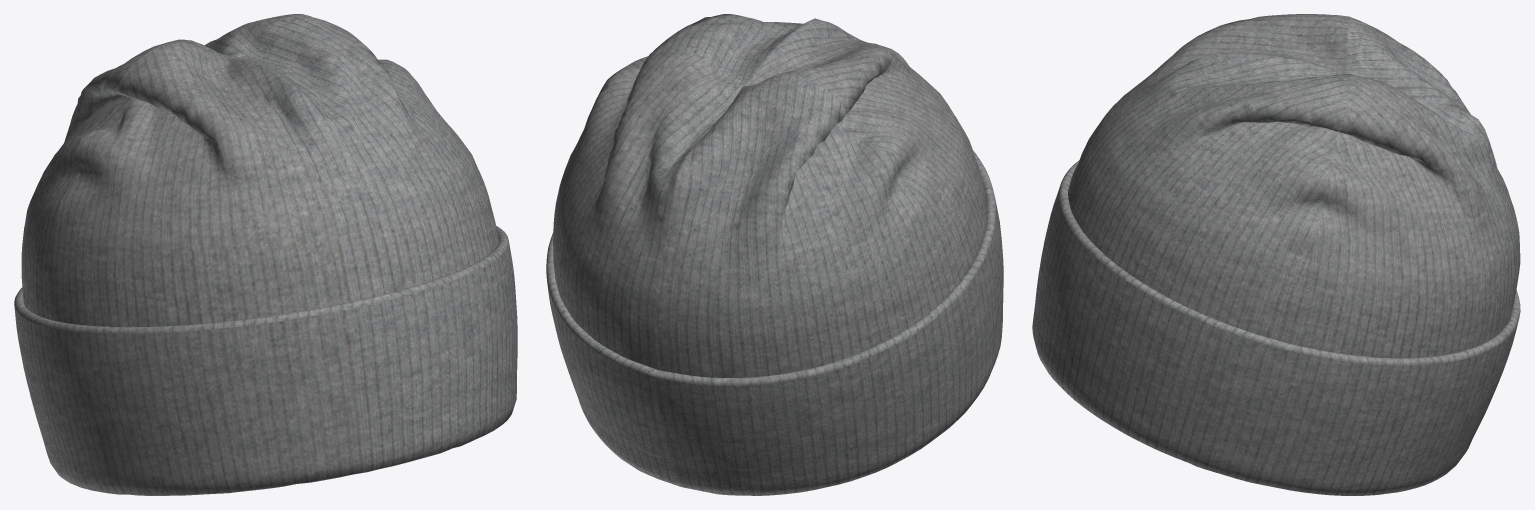
File: beanie.glb
3 renders of one model, left to right at view 1: azimuth 30°, elevation 25°; view 2: azimuth 150°, elevation 25°; view 3: azimuth 270°, elevation 25°, orthographic. The views are drawn at different scales.
Visible parts, largest first — view 1: Pattern2D_269577_Node_0; view 2: Pattern2D_269577_Node_0; view 3: Pattern2D_269577_Node_0.
Part boxes in pixels (x1,y1,x2,y2): Pattern2D_269577_Node_0: (14,14,517,495); Pattern2D_269577_Node_0: (546,14,1003,495); Pattern2D_269577_Node_0: (1032,14,1520,495).
Size of the model in its own units: 0.199 by 0.1888 by 0.2114.
Materials: 1 (1 with a texture image).
